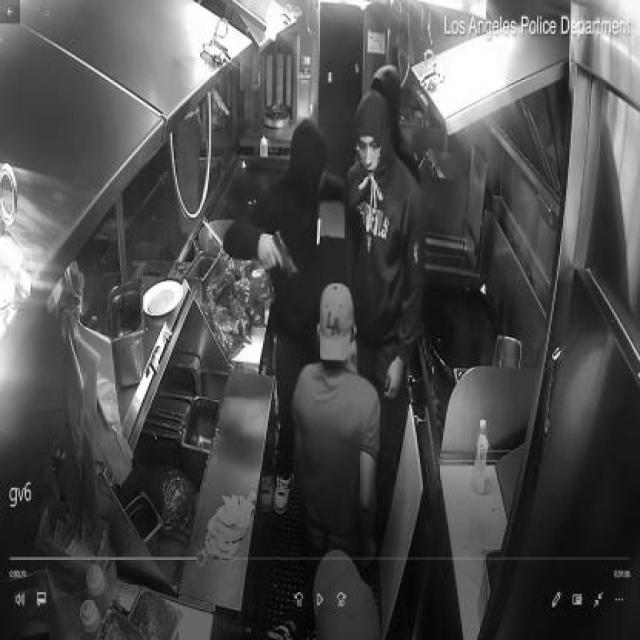weapon: (271, 230, 298, 278)
